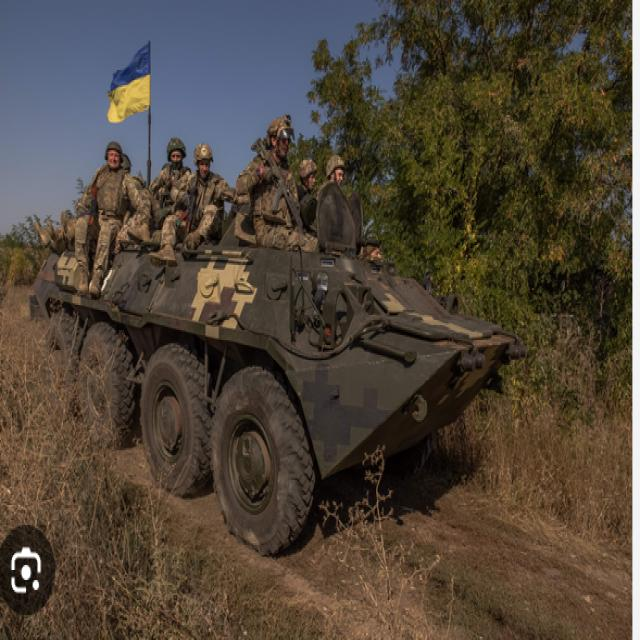MIL_APC: (32, 151, 535, 560)
